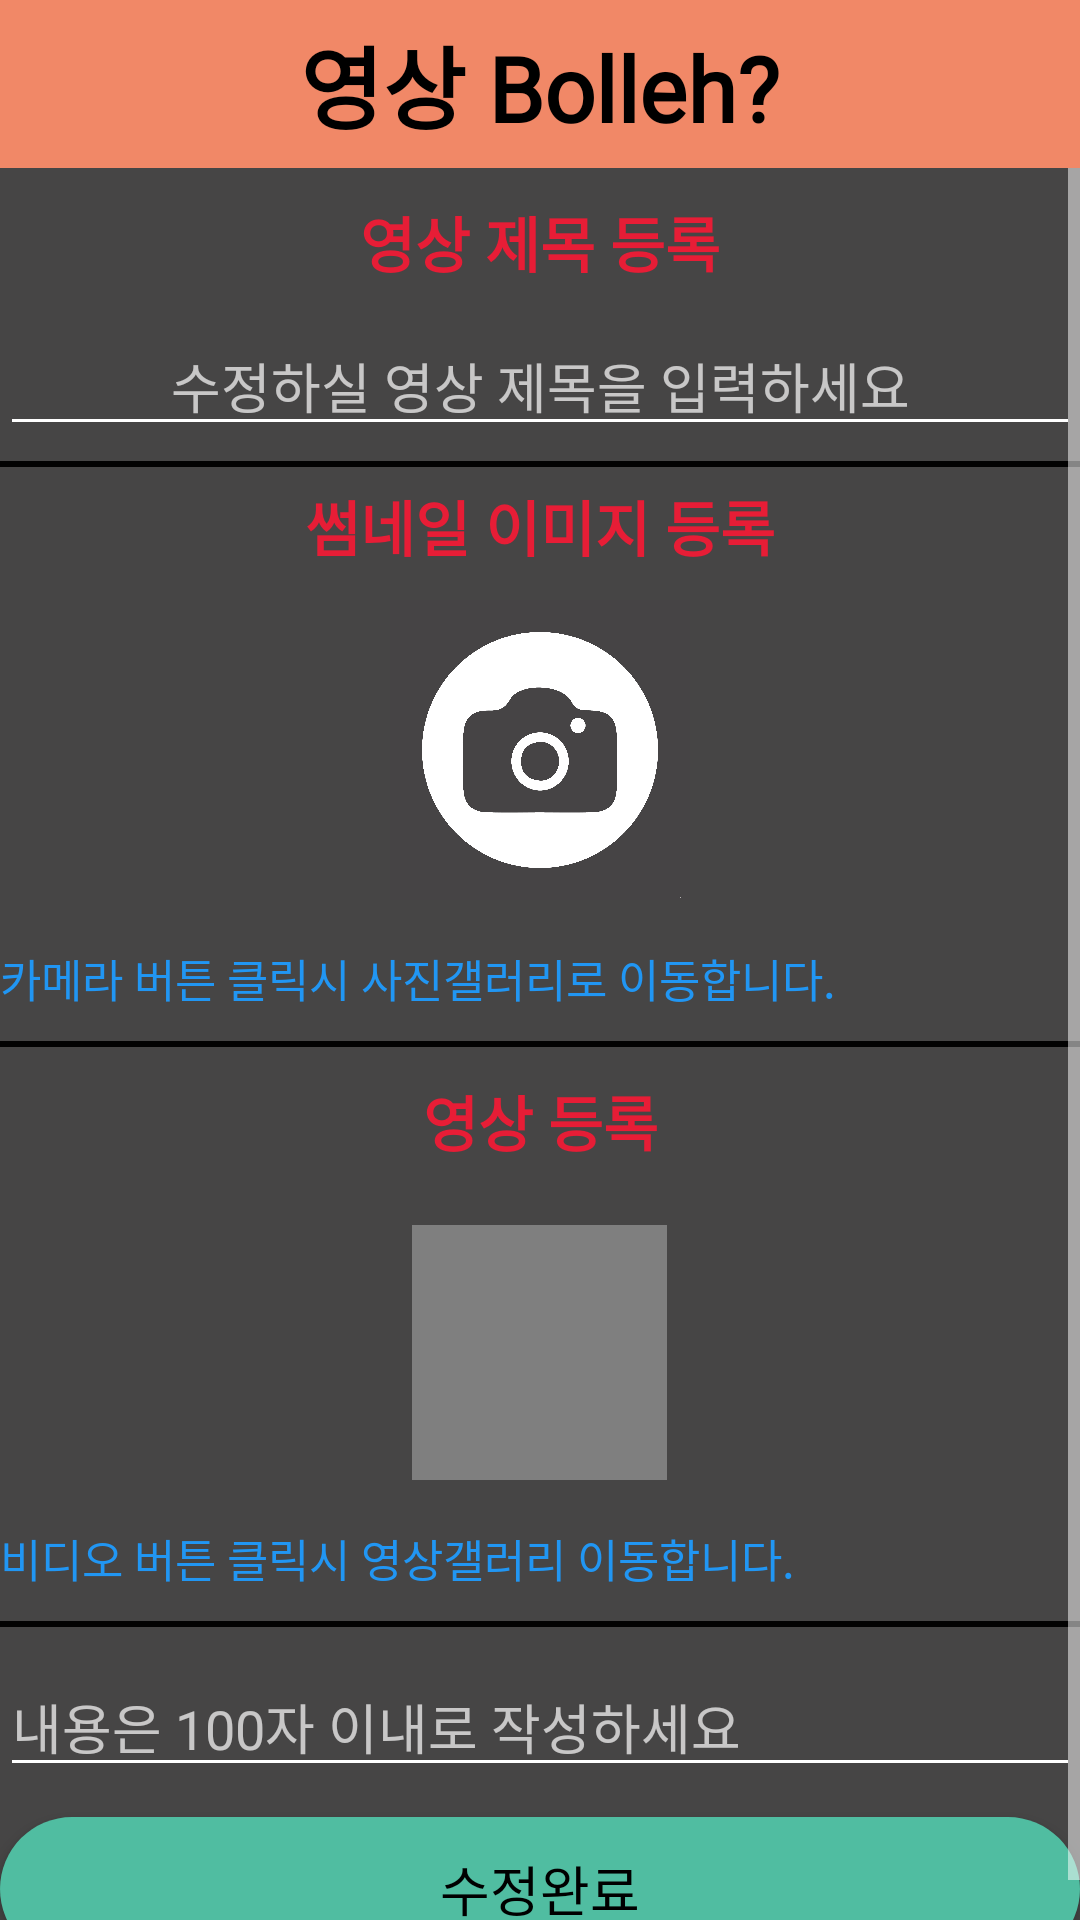

Icon click points for this 1080px×1920px phone screenshot, format (x=x, y=y):
cameraicon: (x=551, y=765)
